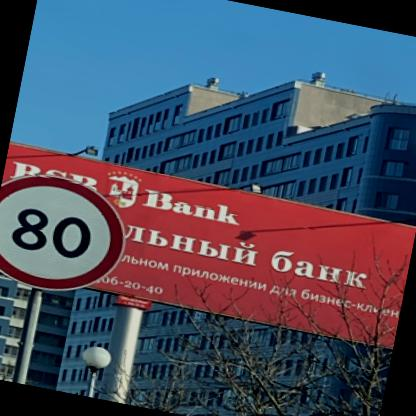speedlimit: (0, 164, 134, 303)
